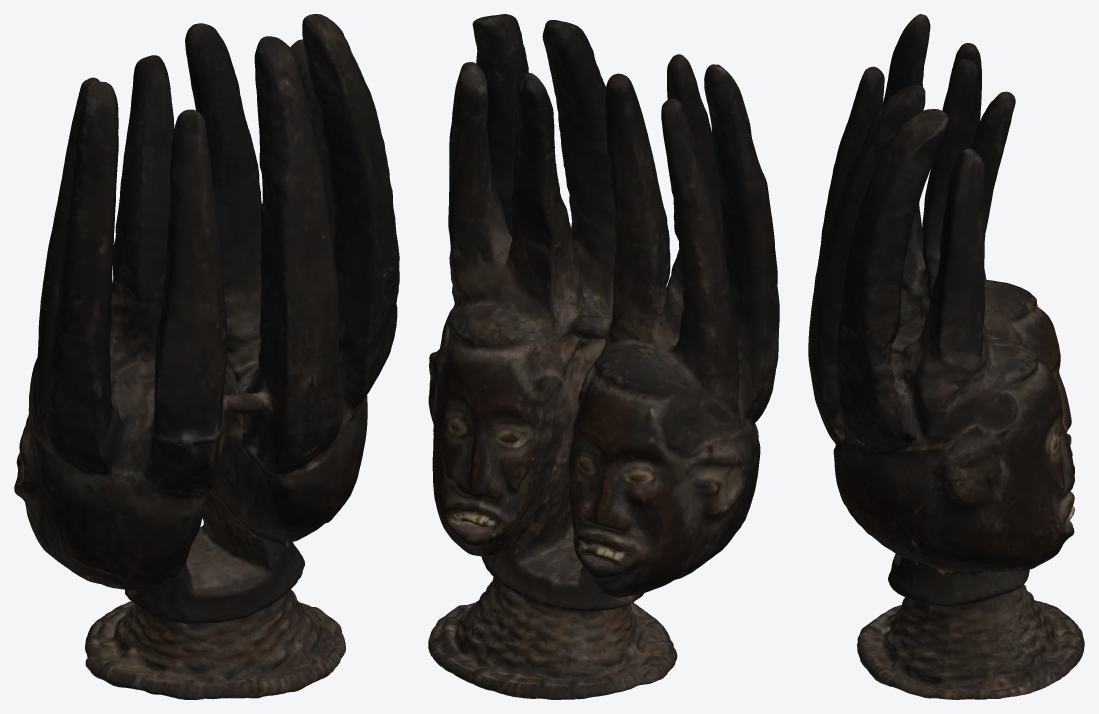
Rendered from preview.glb.
3 renders of one model, left to right at view 1: azimuth 30°, elevation 25°; view 2: azimuth 150°, elevation 25°; view 3: azimuth 270°, elevation 25°, orthographic. The views are drawn at different scales.
Visible parts, largest first — view 1: Object_2; view 2: Object_2; view 3: Object_2.
Part boxes in pixels (<box>): Object_2: <box>14,14,399,699</box>; Object_2: <box>428,14,779,699</box>; Object_2: <box>808,14,1084,699</box>.
Bounding box in the file's own units: 320 × 575 × 249.
1 material, 1 textured.
